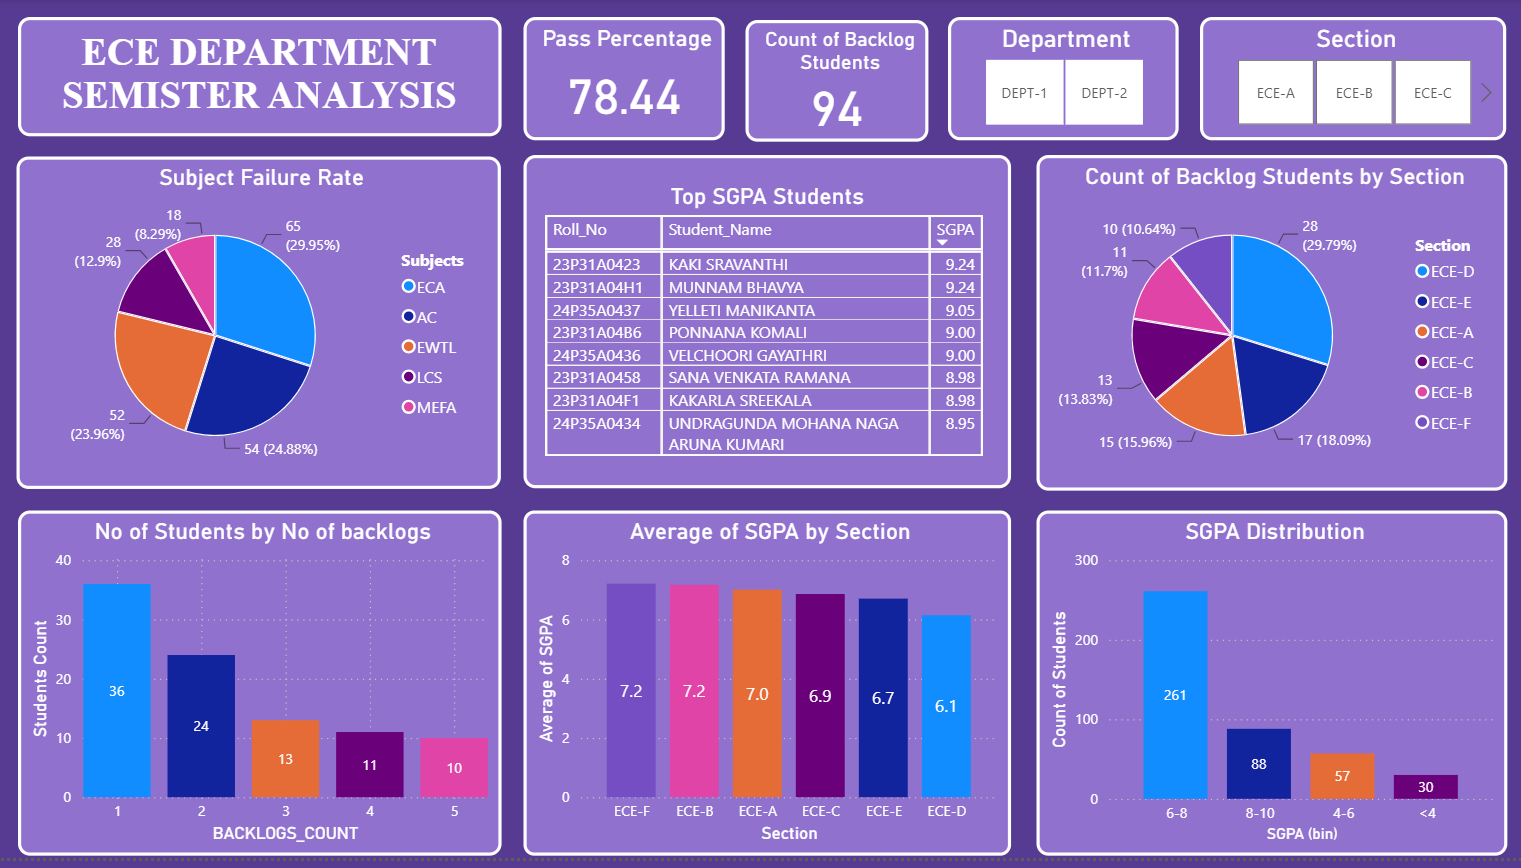

This screenshot's page, from the dashboard's own definition file:
{"tool":"powerbi","page":{"name":"Page 1","canvas":[1280,720],"ordinal":0},"visuals":[{"type":"pieChart","title":"Subject Failure Rate","fields":{"Category":["SEM_ANALYSIS123.Subjects"],"Y":["Divide(CountNonNull(SEM_ANALYSIS123.Pass_or_fail), ScopedEval(CountNonNull(SEM_ANALYSIS123.Pass_or_fail), []))"],"Series":["SEM_ANALYSIS123.Pass_or_fail"]},"box":[16.7,131.7,405.8,278.6],"z":0},{"type":"columnChart","title":"Average of SGPA by Section","fields":{"Category":["SEM_ANALYSIS123 (2).Section"],"Y":["Avg(SEM_ANALYSIS123 (2).SGPA)"],"Series":["SEM_ANALYSIS123 (2).Section"]},"box":[441.4,429.3,408.6,289.7],"z":1000},{"type":"slicer","title":"Department","fields":{"Values":["SEM_ANALYSIS123 (2).Department"]},"box":[796.6,15.5,193.1,103.4],"z":2000},{"type":"slicer","title":"Section","fields":{"Values":["SEM_ANALYSIS123 (2).Section"]},"box":[1008.6,15.5,256.9,103.4],"z":3000},{"type":"pieChart","title":"Count of Backlog Students by Section","fields":{"Y":["CountNonNull(SEM_ANALYSIS123 (2).BACKLOGS_OR_NOT)"],"Category":["SEM_ANALYSIS123 (2).Section"]},"box":[870.7,131,394.8,281],"z":4000},{"type":"columnChart","title":"SGPA Distribution","fields":{"Category":["SEM_ANALYSIS123 (2).SGPA_Bin"],"Y":["CountNonNull(SEM_ANALYSIS123 (2).SGPA)"],"Series":["SEM_ANALYSIS123 (2).SGPA_Bin"]},"box":[870.7,429.3,394.8,289.7],"z":5000},{"type":"columnChart","title":"No of Students by No of backlogs ","fields":{"Category":["SEM_ANALYSIS123 (2).BACKLOGS_COUNT"],"Y":["CountNonNull(SEM_ANALYSIS123 (2).SGPA)"],"Series":["SEM_ANALYSIS123 (2).BACKLOGS_COUNT"]},"box":[17.2,429.3,405.2,289.7],"z":6000},{"type":"tableEx","title":"Top SGPA Students","fields":{"Values":["SEM_ANALYSIS123 (2).Roll_No","SEM_ANALYSIS123 (2).Student_Name","SEM_ANALYSIS123 (2).SGPA"]},"box":[441.4,131,408.6,279.3],"z":7000},{"type":"card","title":"Count of Backlog Students","fields":{"Values":["CountNonNull(SEM_ANALYSIS123 (2).BACKLOGS_OR_NOT)"]},"box":[627.6,17.2,153.4,101.7],"z":8000},{"type":"card","title":"Pass Percentage","fields":{"Values":["SEM_ANALYSIS123 (2).Pass Percentage"]},"box":[441.4,15.5,169,103.4],"z":9000},{"type":"textbox","box":[17.2,15.5,405.2,100],"z":10000}]}

Visuals, with their boxes in screenshot pixels (x1, y1, x2, y2), scaled from the page's 1280x720 canvas onto the 1521x868 screenshot:
"Subject Failure Rate" pieChart: <box>20,159,502,495</box>
"Average of SGPA by Section" columnChart: <box>525,518,1010,867</box>
"Department" slicer: <box>947,19,1176,143</box>
"Section" slicer: <box>1199,19,1504,143</box>
"Count of Backlog Students by Section" pieChart: <box>1035,158,1504,497</box>
"SGPA Distribution" columnChart: <box>1035,518,1504,867</box>
"No of Students by No of backlogs " columnChart: <box>20,518,502,867</box>
"Top SGPA Students" tableEx: <box>525,158,1010,495</box>
"Count of Backlog Students" card: <box>746,21,928,143</box>
"Pass Percentage" card: <box>525,19,725,143</box>
textbox: <box>20,19,502,139</box>
